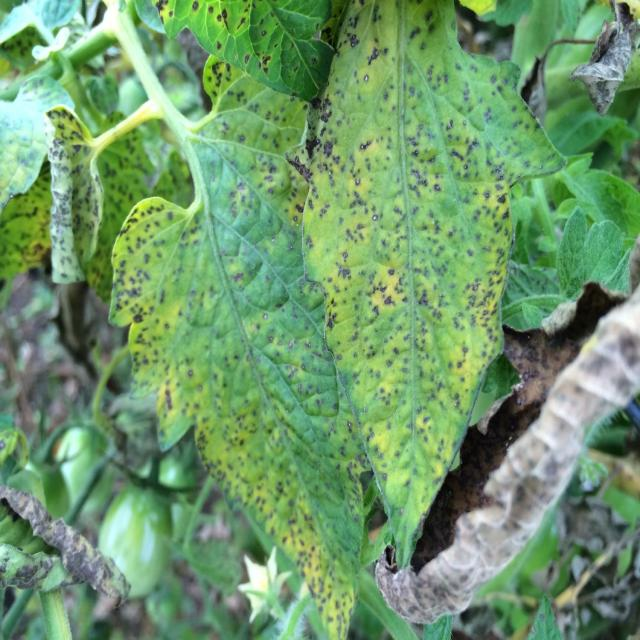Septoria: (287, 0, 565, 585), (108, 56, 374, 640), (150, 0, 335, 101), (42, 105, 106, 288)
